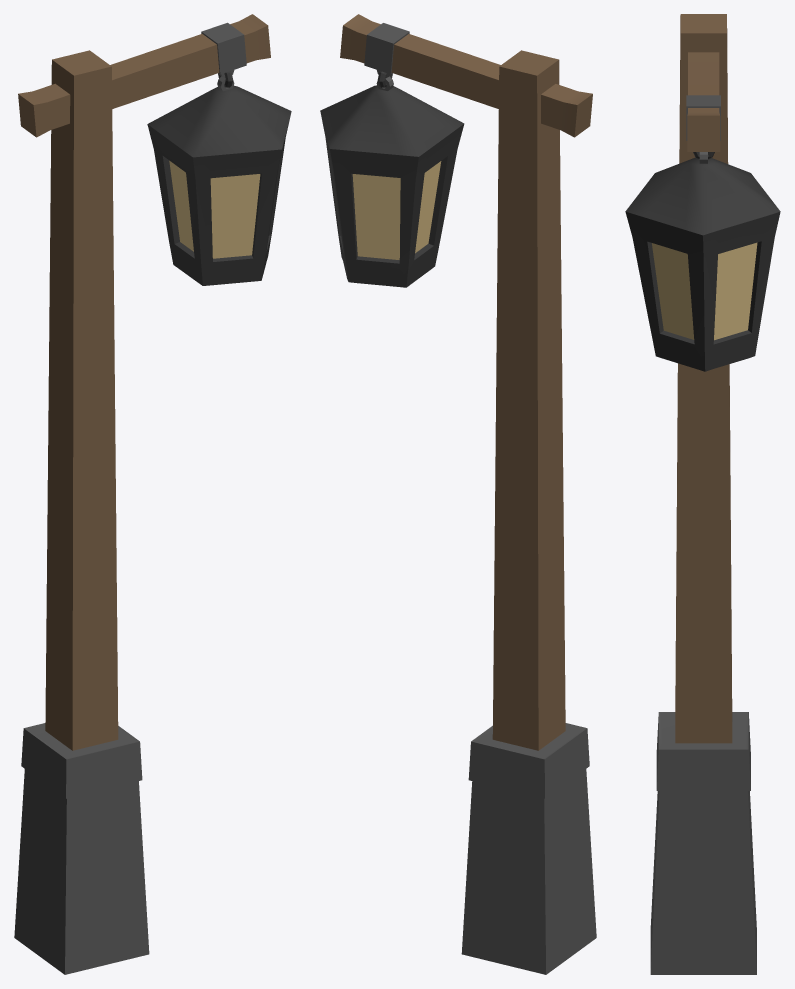
The model's file is Lampadaire.fbx.
3 views of the same model, side by side, from view 1: azimuth 30°, elevation 25°; view 2: azimuth 150°, elevation 25°; view 3: azimuth 270°, elevation 25° (orthographic). The views are drawn at different scales.
Parts seen in each view (by area): view 1: pCube2, pCube1, pCylinder1, pCube3, pCube4; view 2: pCube2, pCube1, pCylinder1, pCube3, pCube4; view 3: pCylinder1, pCube2, pCube1, pCube3, pCube4.
Boxes of the visible parts, x1=… form: pCube2: x1=45, y1=50, x2=118, y2=750; pCube1: x1=14, y1=723, x2=149, y2=974; pCylinder1: x1=147, y1=85, x2=291, y2=285; pCube3: x1=18, y1=14, x2=270, y2=137; pCube4: x1=201, y1=22, x2=246, y2=74; pCube2: x1=492, y1=50, x2=565, y2=750; pCube1: x1=461, y1=723, x2=596, y2=974; pCylinder1: x1=320, y1=85, x2=464, y2=287; pCube3: x1=340, y1=14, x2=592, y2=137; pCube4: x1=364, y1=23, x2=409, y2=74; pCylinder1: x1=625, y1=157, x2=780, y2=371; pCube2: x1=675, y1=14, x2=732, y2=743; pCube1: x1=650, y1=712, x2=756, y2=974; pCube3: x1=687, y1=52, x2=720, y2=151; pCube4: x1=686, y1=95, x2=720, y2=140.
Size of the model in its own units: 98.82 by 314 by 47.55.
